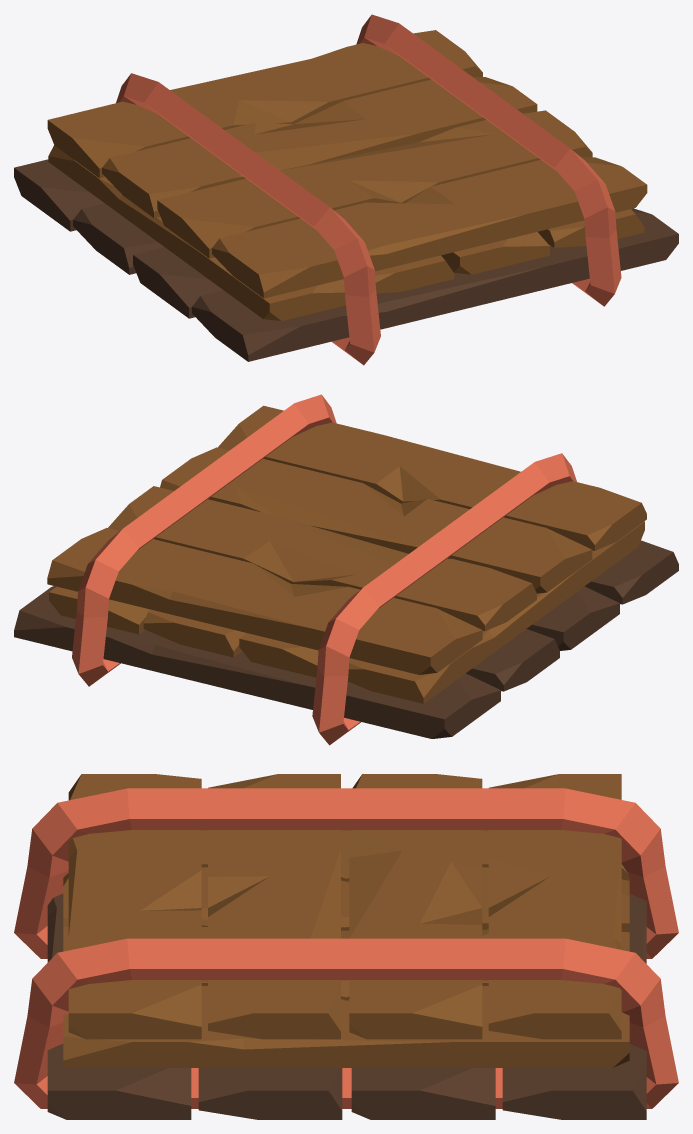
The model's file is LowWoodBox.fbx.
3 renders of one model, top to bottom at view 1: azimuth 30°, elevation 25°; view 2: azimuth 150°, elevation 25°; view 3: azimuth 270°, elevation 25°, orthographic. The views are drawn at different scales.
Parts seen in each view (by area): view 1: Wood, WoodenBox; view 2: Wood, WoodenBox; view 3: Wood, WoodenBox.
Part boxes in pixels (<box>): Wood: <box>47,14,647,365</box>; WoodenBox: <box>14,159,678,361</box>; Wood: <box>47,394,646,745</box>; WoodenBox: <box>14,540,678,738</box>; Wood: <box>14,774,678,1108</box>; WoodenBox: <box>47,893,646,1119</box>.
Bounding box in the file's own units: 143 × 42.33 × 150.
